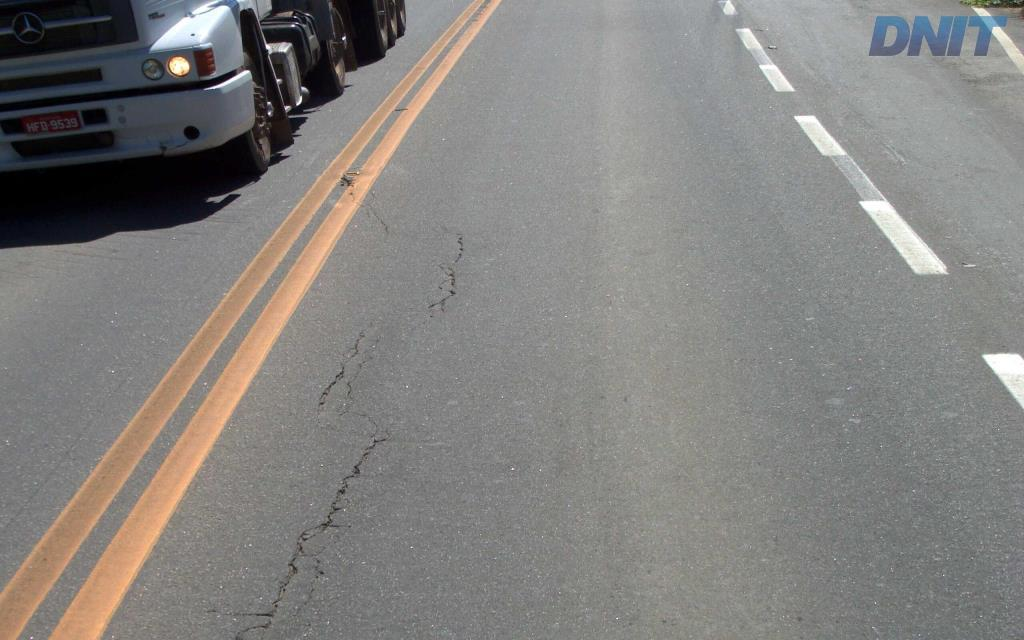crack: (224, 429, 391, 639)
